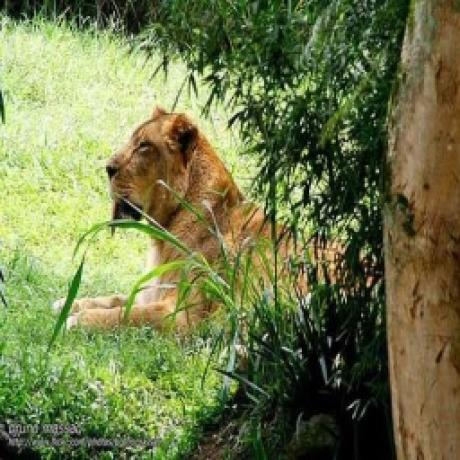Lion: (50, 102, 326, 329)
